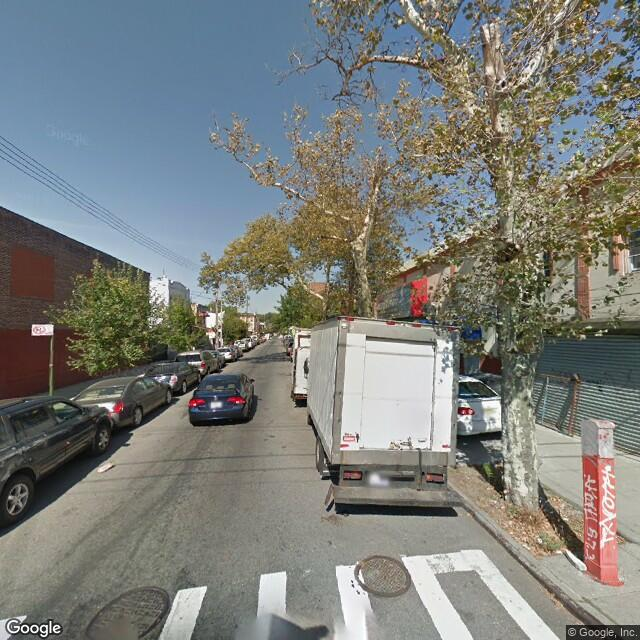litter: (98, 463, 113, 471)
